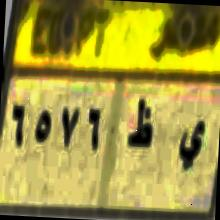5: (34, 108, 53, 154)
6: (8, 96, 28, 152), (85, 103, 103, 160)
7: (56, 104, 81, 156)
Thaa: (126, 92, 156, 157)
yaa: (175, 115, 206, 180)
